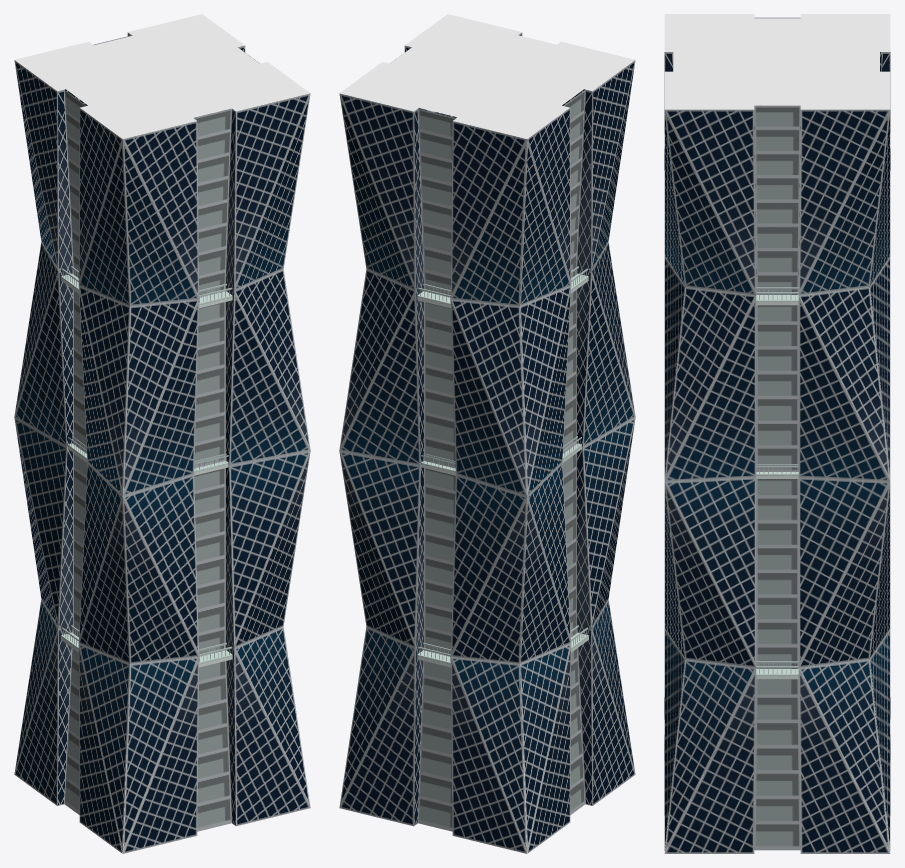
The model's file is BuildingCSC.obj.
3 renders of one model, left to right at view 1: azimuth 30°, elevation 25°; view 2: azimuth 150°, elevation 25°; view 3: azimuth 270°, elevation 25°, orthographic. The views are drawn at different scales.
Parts seen in each view (by area): view 1: BuildingCSC1; view 2: BuildingCSC1; view 3: BuildingCSC1.
Boxes of the visible parts, x1,y1,x2,y2 form: BuildingCSC1: [14, 14, 310, 853]; BuildingCSC1: [339, 14, 635, 853]; BuildingCSC1: [664, 14, 890, 853].
Bounding box in the file's own units: 220 × 800 × 220.
Materials: 1 (1 with a texture image).
